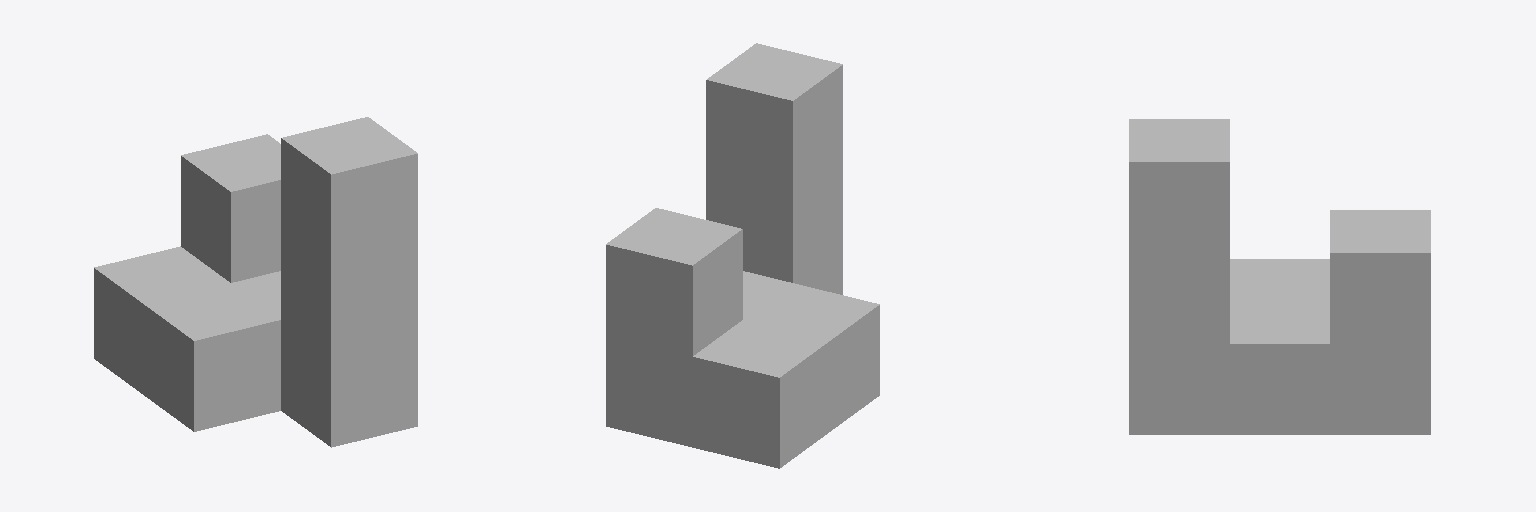
The model's file is buildingchunk1.obj.
3 renders of one model, left to right at view 1: azimuth 30°, elevation 25°; view 2: azimuth 150°, elevation 25°; view 3: azimuth 270°, elevation 25°, orthographic.
Visible parts, largest first — view 1: object 1; view 2: object 1; view 3: object 1.
Boxes of the visible parts, box(x1,y1,x2,y2) form: object 1: box(94, 117, 417, 447); object 1: box(606, 43, 879, 468); object 1: box(1129, 119, 1430, 434).
Bounding box in the file's own units: 0.2 × 0.3 × 0.3.